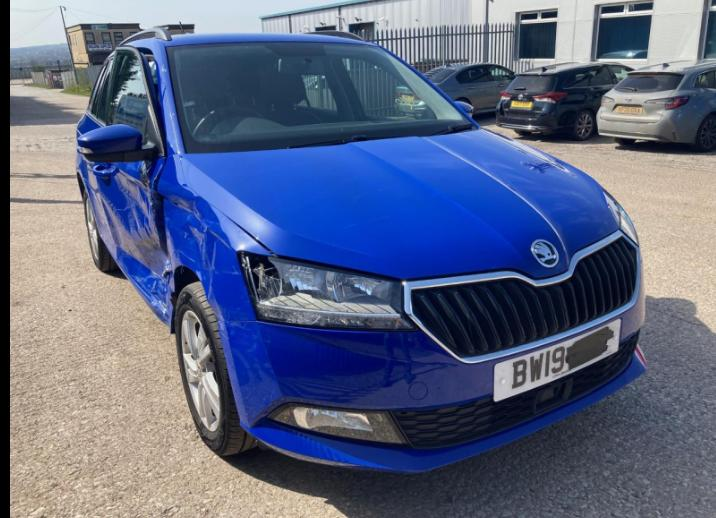Back-door: (79, 55, 115, 197)
Back-wheel: (83, 189, 120, 272)
Back-window: (98, 59, 114, 122), (91, 73, 105, 116)
Fender: (157, 153, 274, 322)
Front-bumper: (217, 260, 647, 473)
Front-door: (94, 46, 173, 312)
Front-wheel: (175, 281, 257, 456)
Front-window: (109, 56, 148, 145)
Grille: (401, 229, 640, 365)
Headlight: (237, 250, 418, 331), (603, 187, 638, 245)
Hood: (178, 129, 621, 280)
License-plate: (493, 318, 621, 402)
Mirror: (76, 106, 164, 163), (456, 101, 474, 118)
Quarter-panel: (76, 114, 88, 180)
Rocker-panel: (76, 170, 171, 327)
Roof: (109, 27, 378, 57)
Windshield: (166, 42, 474, 153)
